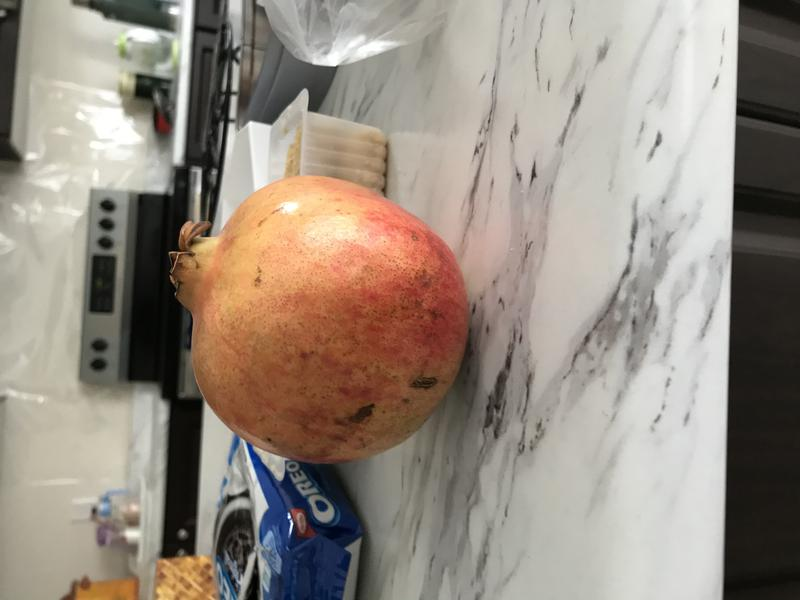pomegranate: (149, 169, 479, 475)
